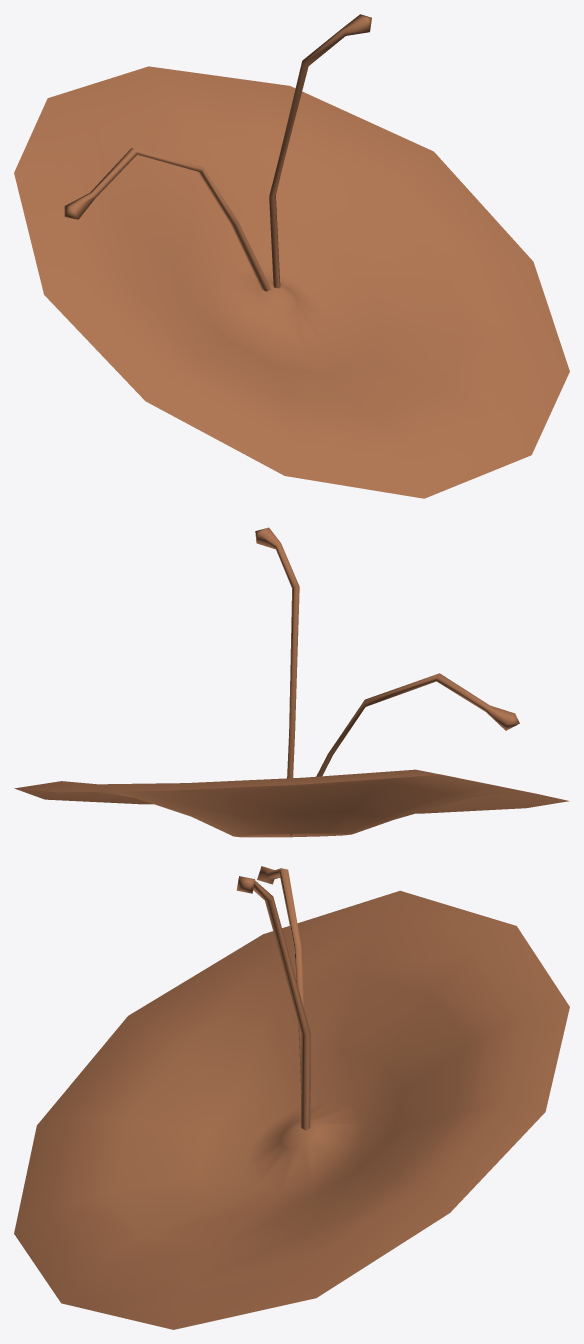
The model's file is RedFlower.fbx.
3 views of the same model, one above another, from view 1: azimuth 30°, elevation 25°; view 2: azimuth 150°, elevation 25°; view 3: azimuth 270°, elevation 25° (orthographic). The views are drawn at different scales.
Parts seen in each view (by area): view 1: Flower; view 2: Flower; view 3: Flower.
Boxes of the visible parts, box(x1,y1,x2,y2) form: Flower: box(14, 14, 569, 498); Flower: box(14, 527, 569, 837); Flower: box(14, 866, 569, 1329).
Bounding box in the file's own units: 0.6615 × 0.4772 × 0.6176.
